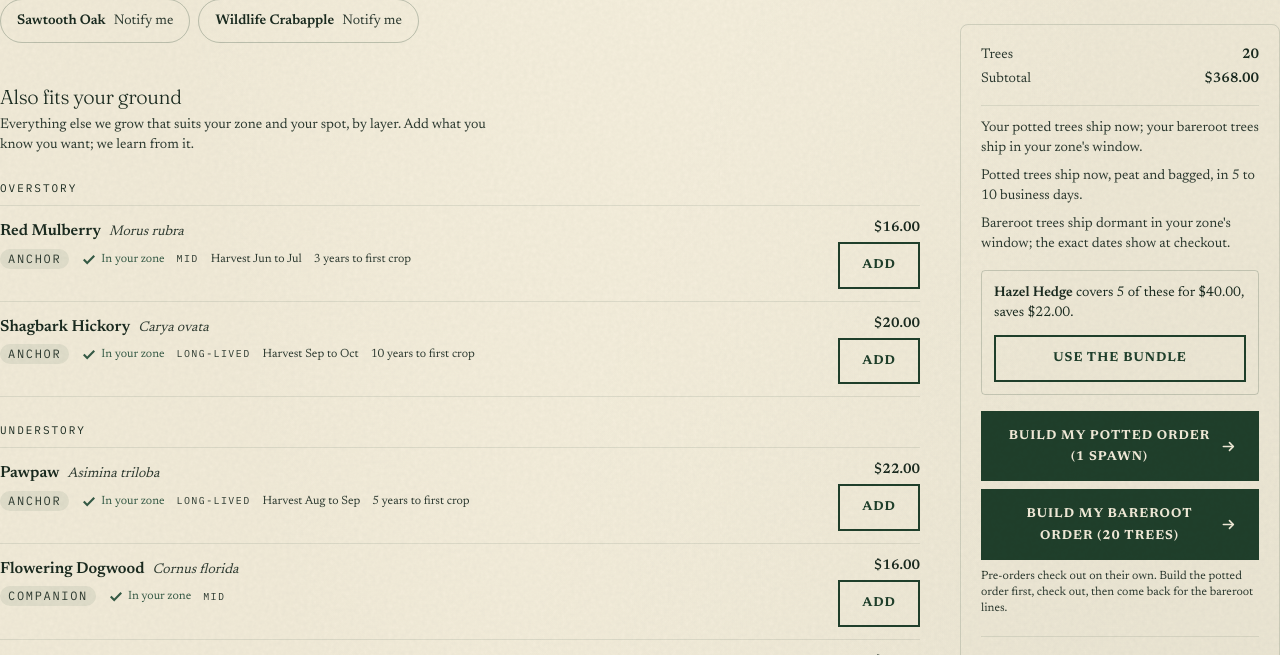
Test: ResultCard: winter beta (planner-winter-beta spec §C.1, §C.2, §C.3) › Add from the suggested list appends a manual line, posts one added signal, and tells the parent
(page scrolled)
expect the element with test id "plan-suggested-overstory" is shown: met, box [0,179,920,397]
What coordinates should you click on to do the following:
click the button with aria-label "Add Shagbark Hickory"
I would click on:
 (879, 361)
Its box is [838,338,920,384].
(page scrolled)
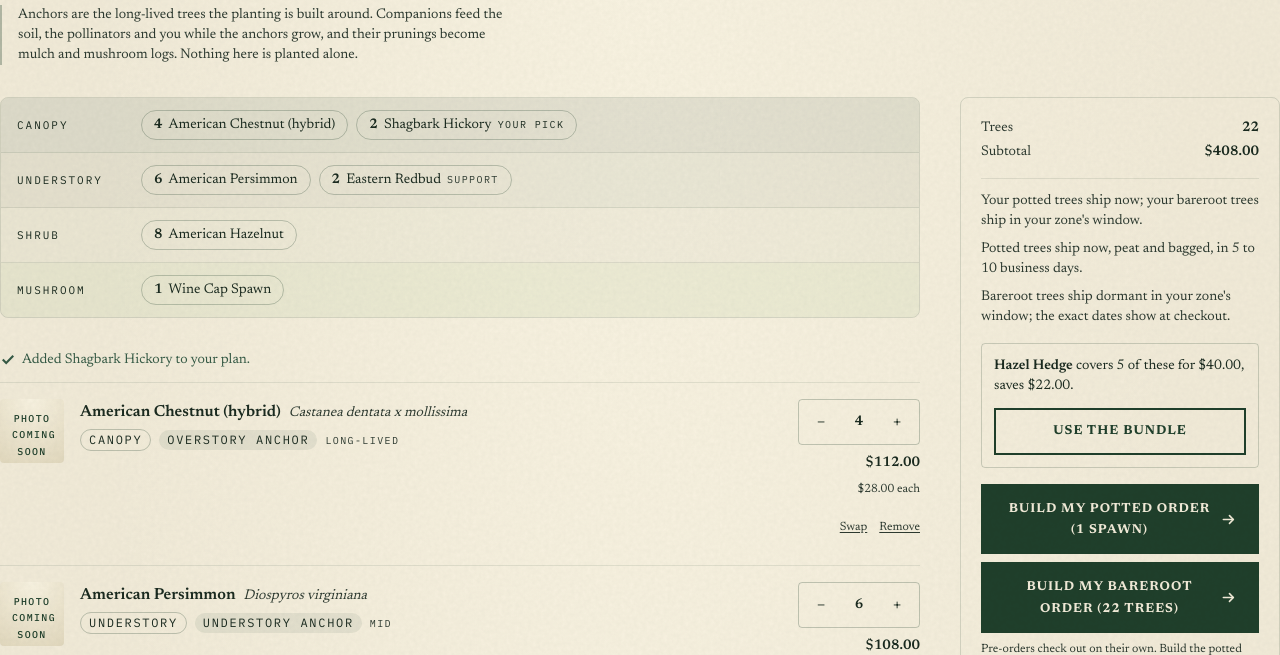
expect the list "Add Shagbark Hickory" is gone: met
expect the message with test id "plan-notice" shows "Added Shagbark Hickory to your plan": met, box [22,353,250,367]
